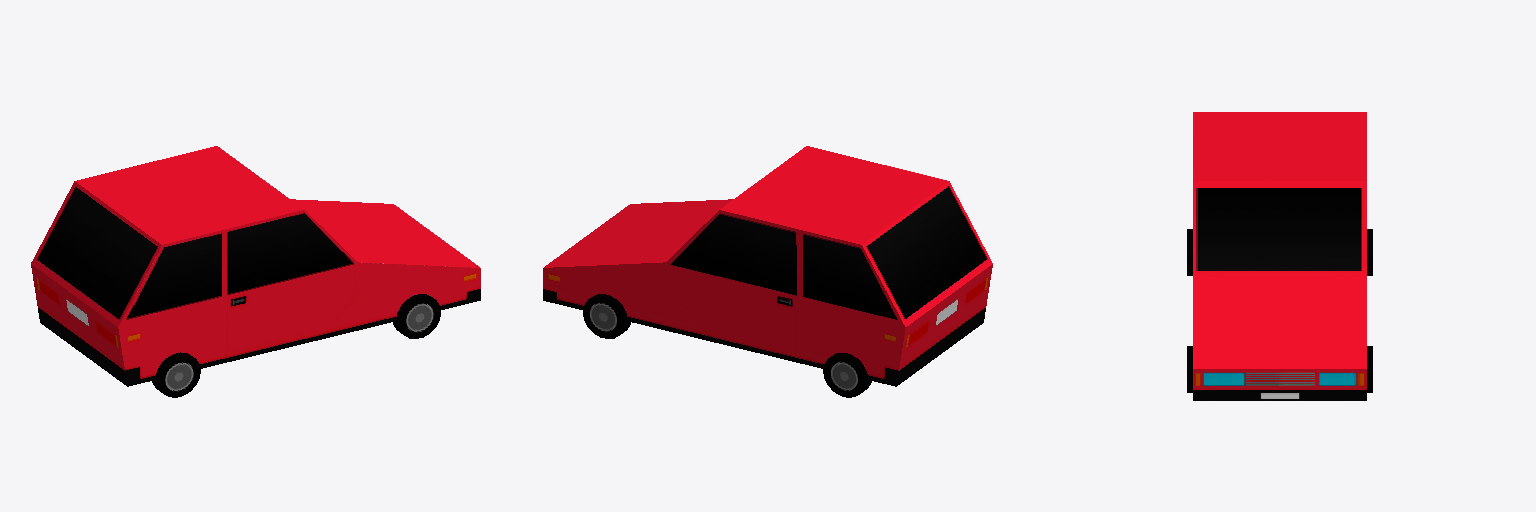
The picture shows the model from 3 angles: view 1: azimuth 30°, elevation 25°; view 2: azimuth 150°, elevation 25°; view 3: azimuth 270°, elevation 25°; orthographic projection.
Parts seen in each view (by area): view 1: CAR_02; view 2: CAR_02; view 3: CAR_02.
Boxes of the visible parts, x1,y1,x2,y2 form: CAR_02: [31, 146, 480, 397]; CAR_02: [543, 146, 992, 397]; CAR_02: [1187, 112, 1372, 400].
Size of the model in its own units: 5.68 by 2.31 by 2.52.
Materials: 1 (1 with a texture image).